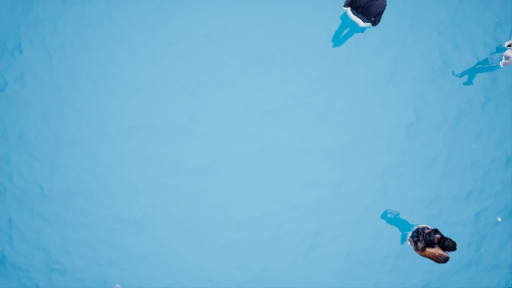person: (374, 205, 461, 267), (455, 38, 512, 92), (331, 1, 385, 49)
